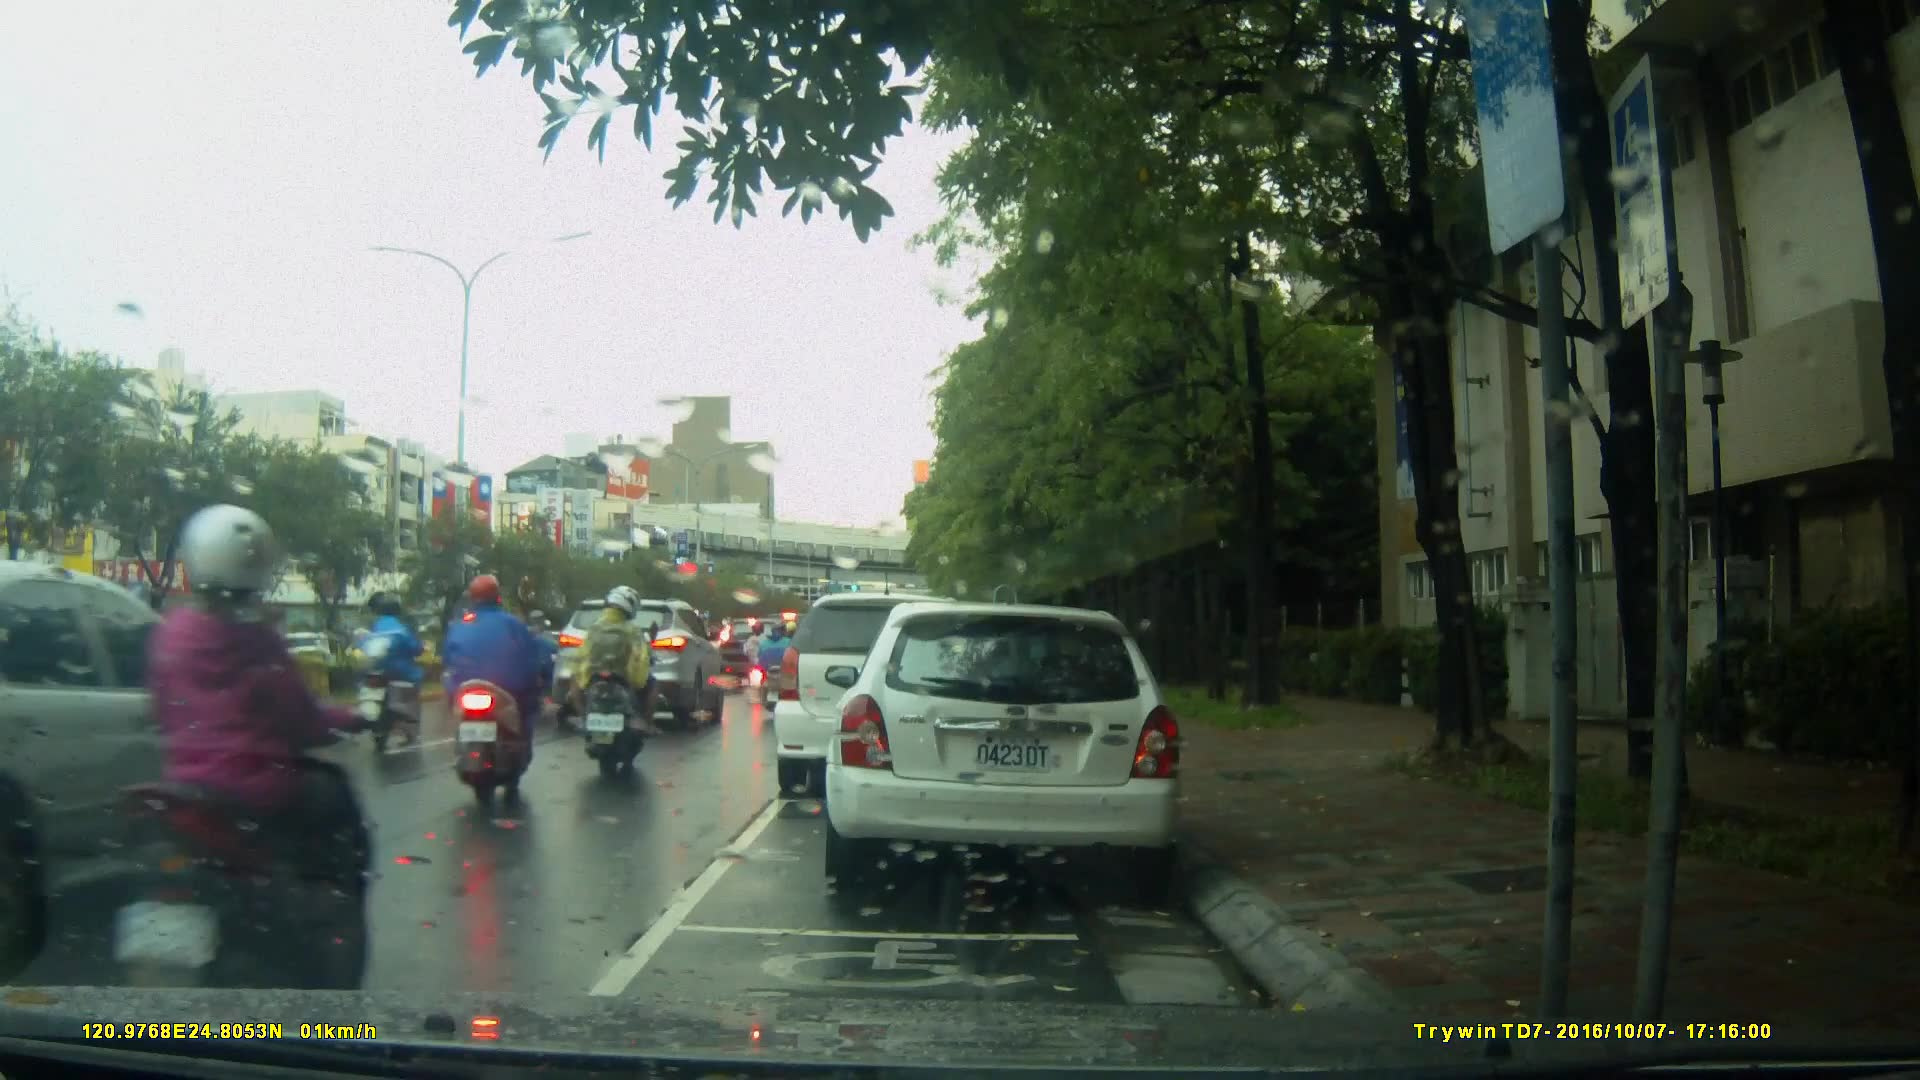rider: (43, 498, 359, 1064), (449, 571, 543, 804), (567, 587, 658, 784), (351, 596, 427, 754), (504, 607, 572, 704), (750, 617, 803, 710), (746, 620, 781, 705)
vehicle: (822, 604, 1188, 883), (774, 595, 995, 802), (550, 599, 724, 732)
